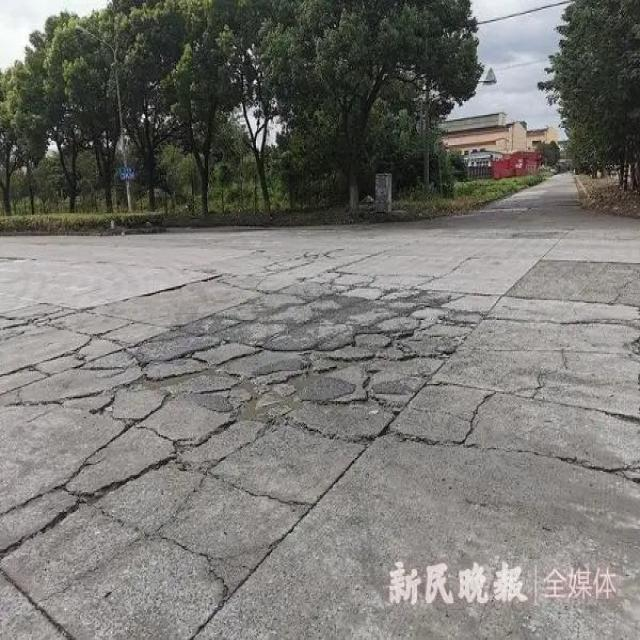Pothole: (110, 324, 455, 451)
